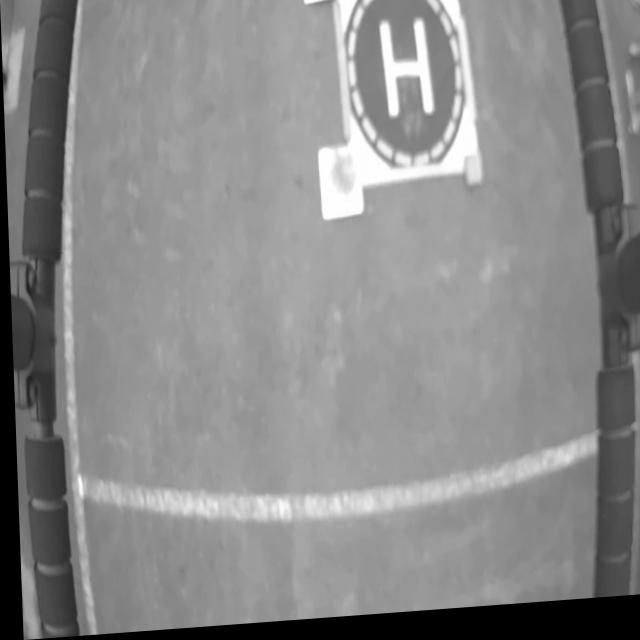Helipad: (378, 25, 434, 125)
